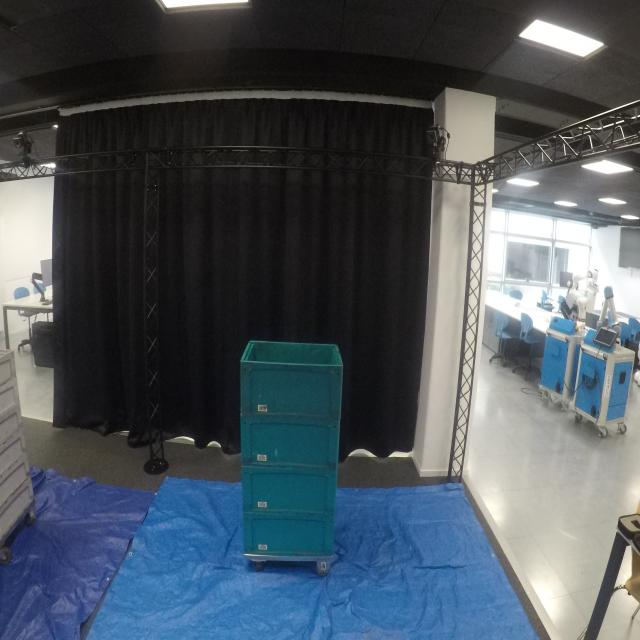BoxB4: (236, 335, 342, 419), (240, 415, 341, 479), (236, 465, 342, 521), (240, 511, 340, 560)
